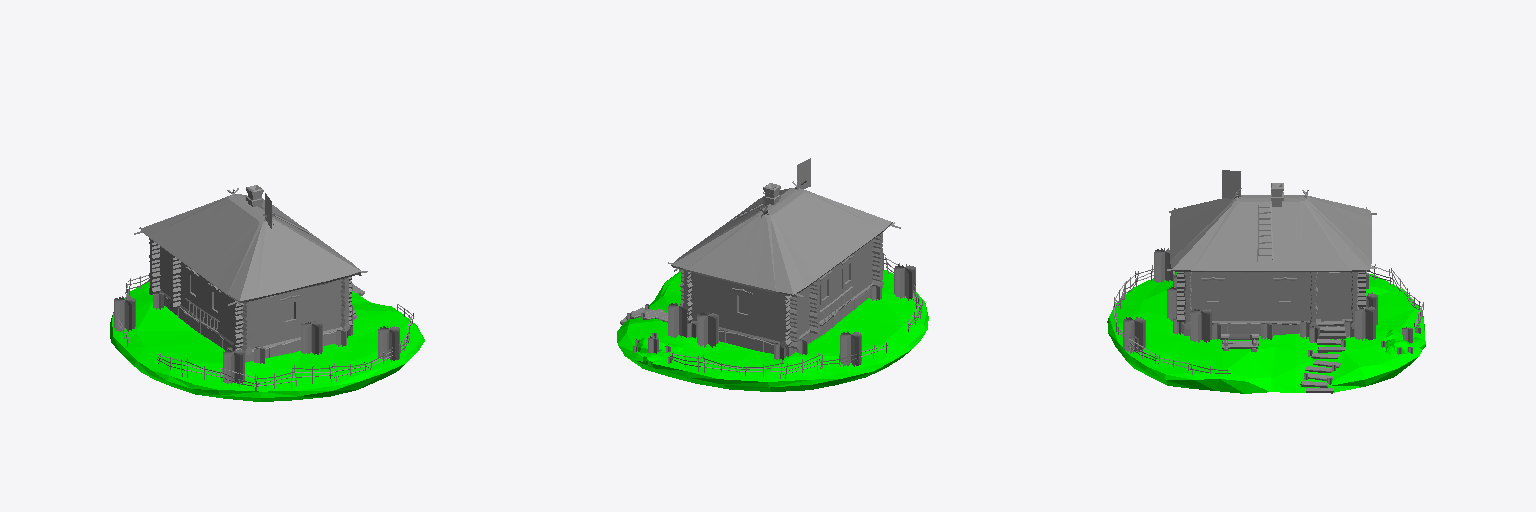
File: house_tri.obj
3 views of the same model, side by side, from view 1: azimuth 30°, elevation 25°; view 2: azimuth 150°, elevation 25°; view 3: azimuth 270°, elevation 25° (orthographic).
Visible parts, largest first — view 1: hatka_local_; view 2: hatka_local_; view 3: hatka_local_.
Boxes of the visible parts, x1,y1,x2,y2 form: hatka_local_: [110, 185, 424, 401]; hatka_local_: [617, 158, 928, 391]; hatka_local_: [1107, 170, 1425, 393].
Bounding box in the file's own units: 1879 × 907 × 2047.